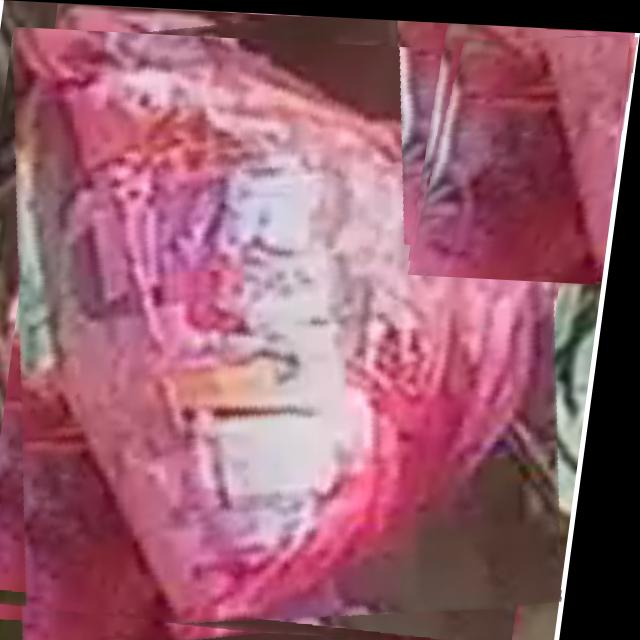other_trashbag: (12, 27, 560, 624), (415, 30, 604, 277)
